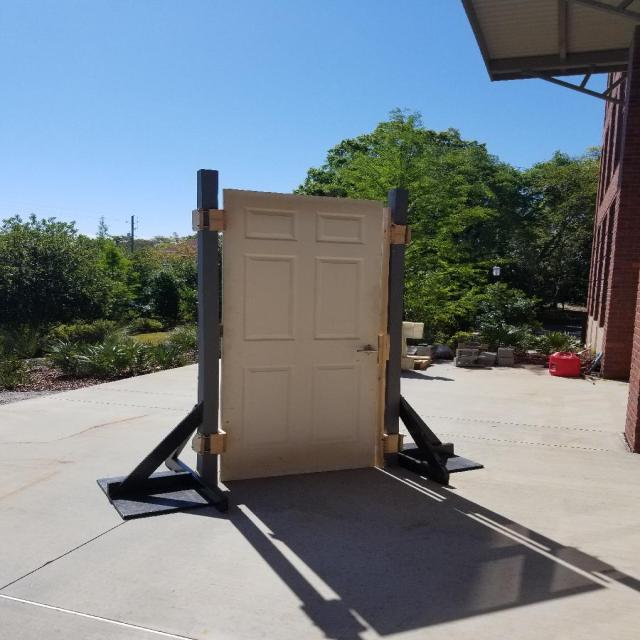door: (216, 186, 384, 484), (354, 338, 380, 361)
